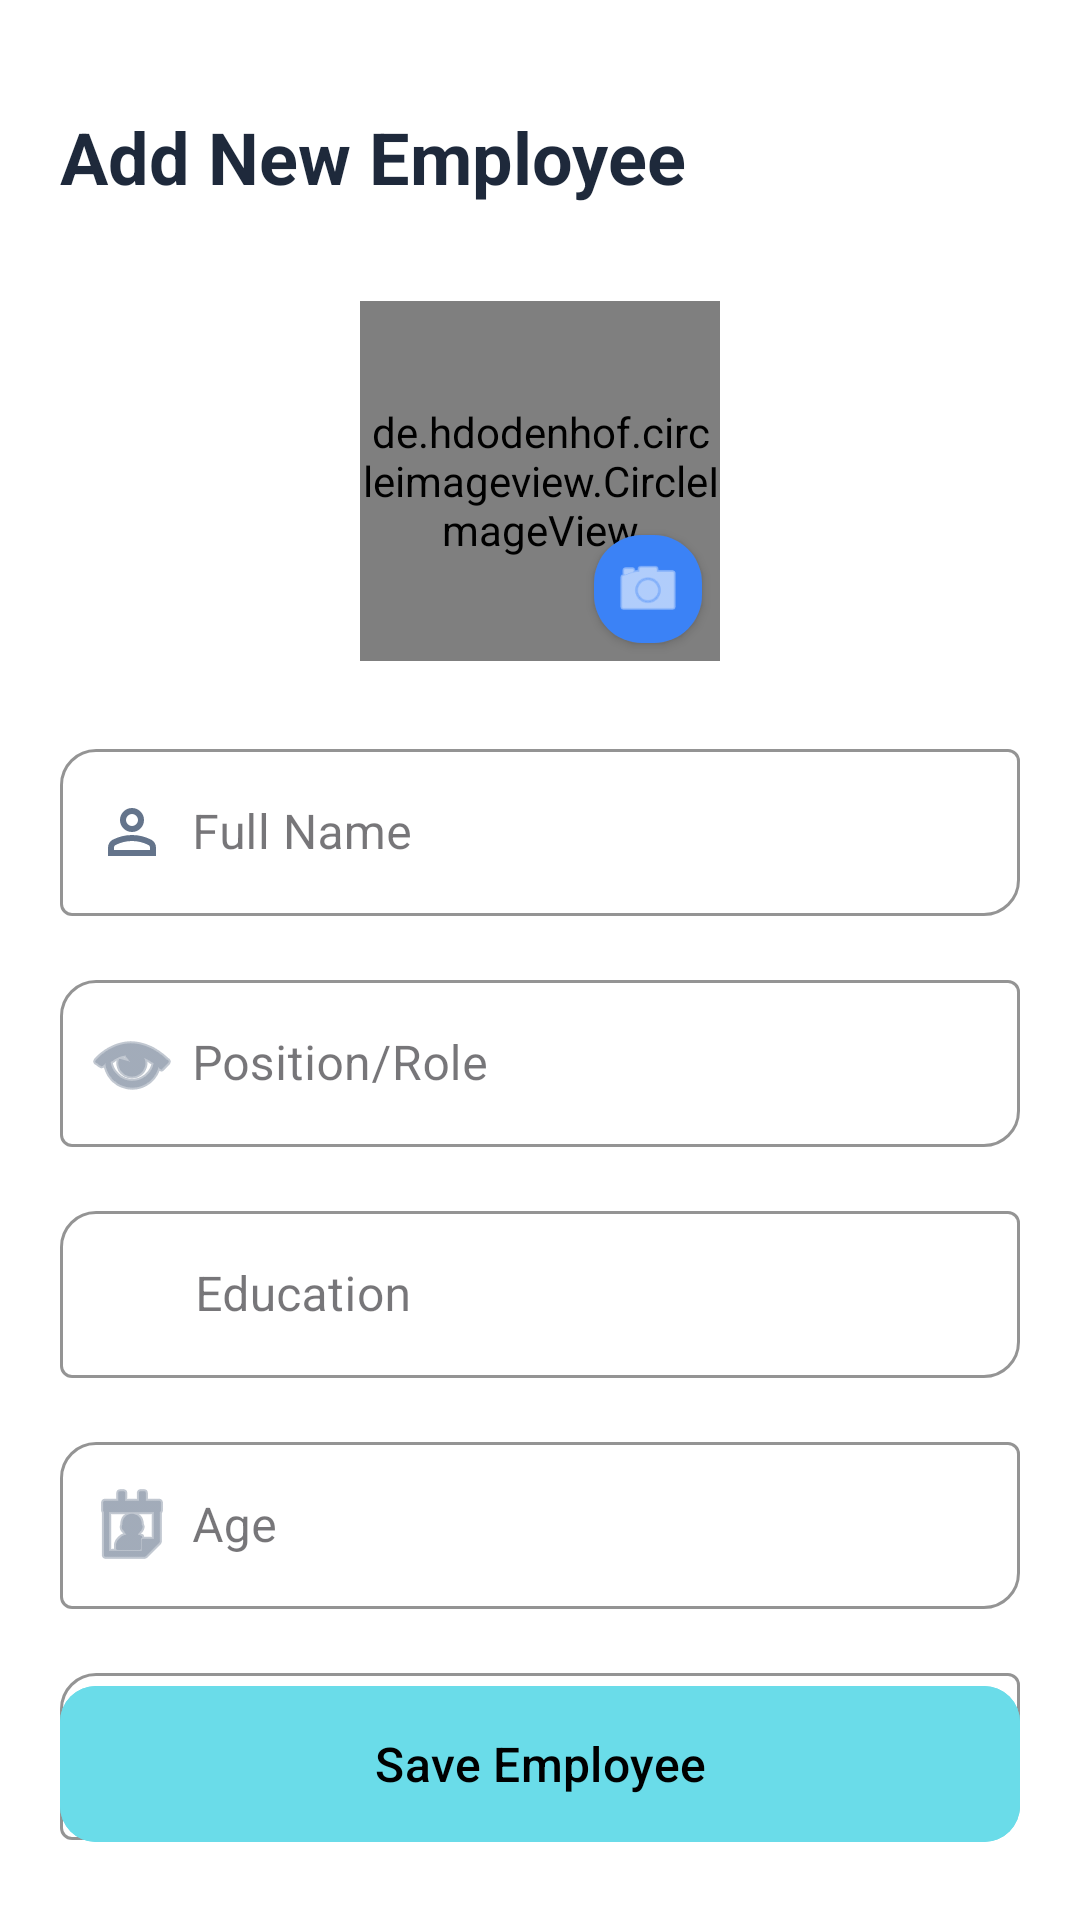

Screen size 1080px×1920px. Icon name, then its center in pixels as point (x, y):
camera: point (640, 580)
